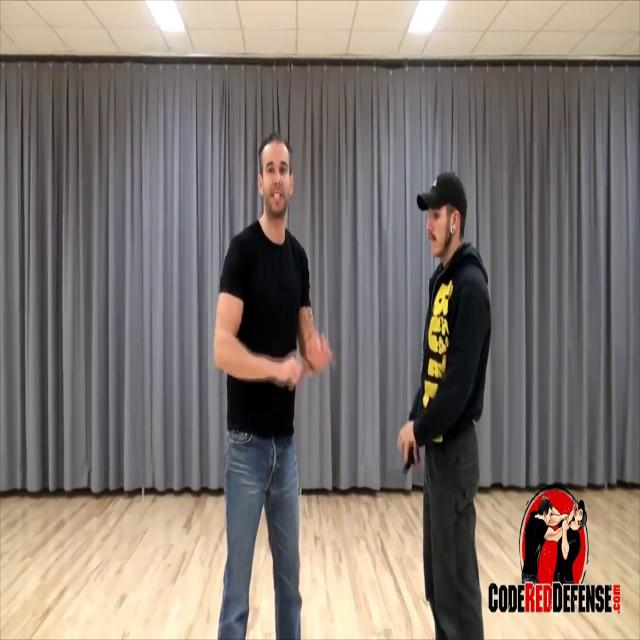Knife_Handle: (398, 420, 420, 476)
